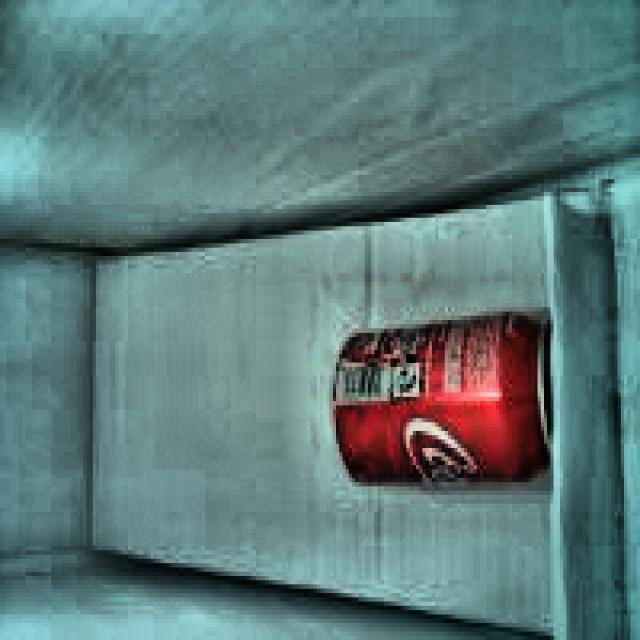Cans: (320, 311, 556, 496)
